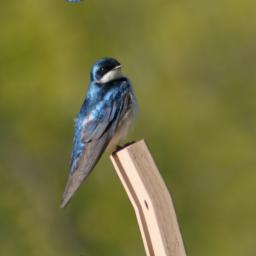Swallow: (15, 47, 168, 213)
